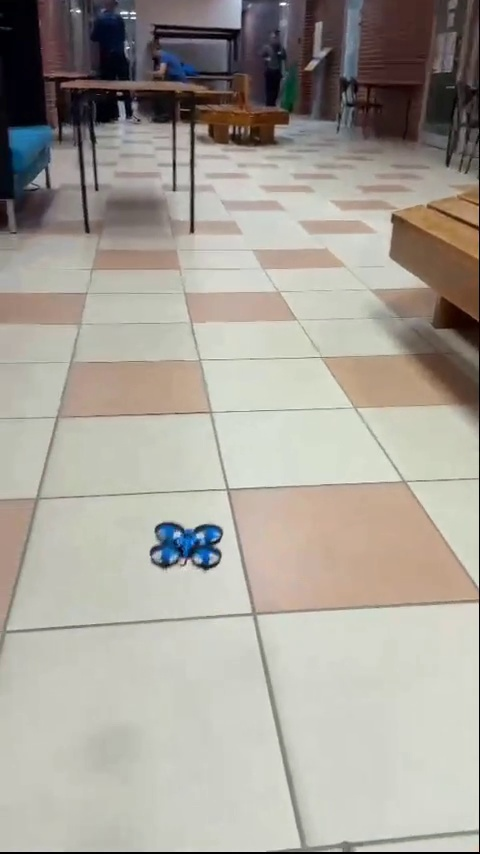drone: (152, 520, 230, 563)
no vest: (93, 0, 143, 120), (251, 34, 298, 114), (150, 37, 200, 85)
